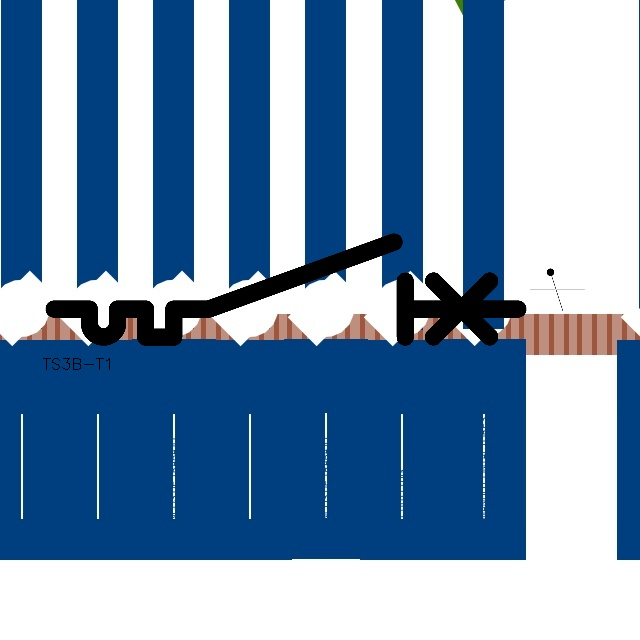interruptor_termomagnetico: (42, 230, 529, 349)
